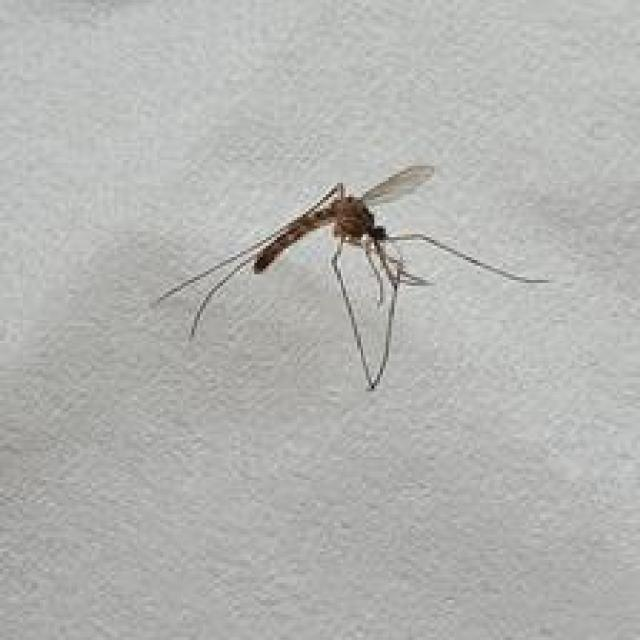Culex: (150, 161, 550, 393)
